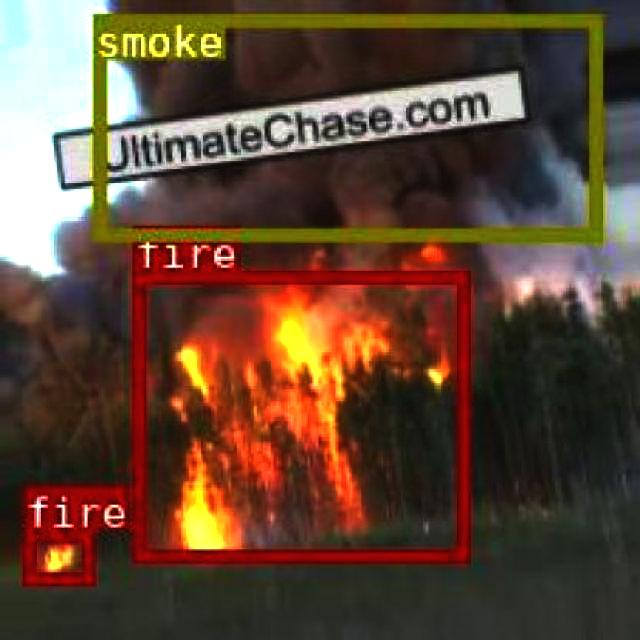fire: (132, 268, 466, 560), (20, 528, 91, 582)
smoke: (92, 12, 600, 240)
